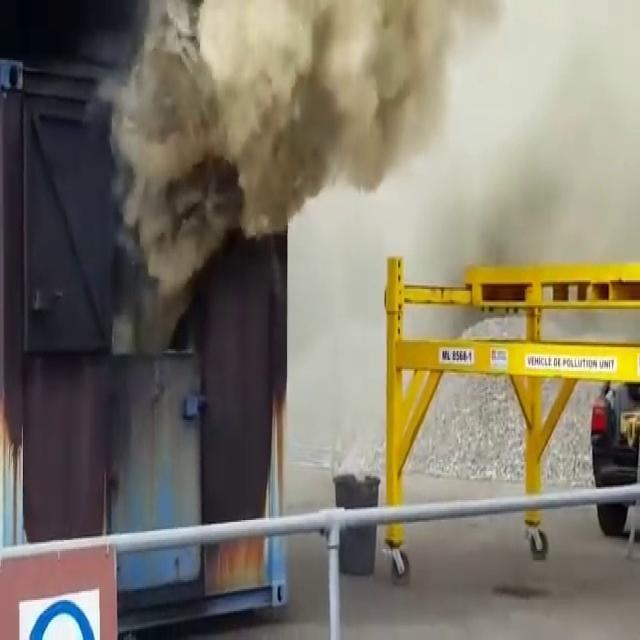Smoke: (108, 7, 535, 205)
